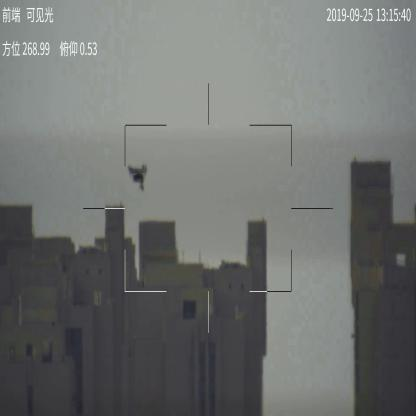uav: (128, 162, 148, 191)
